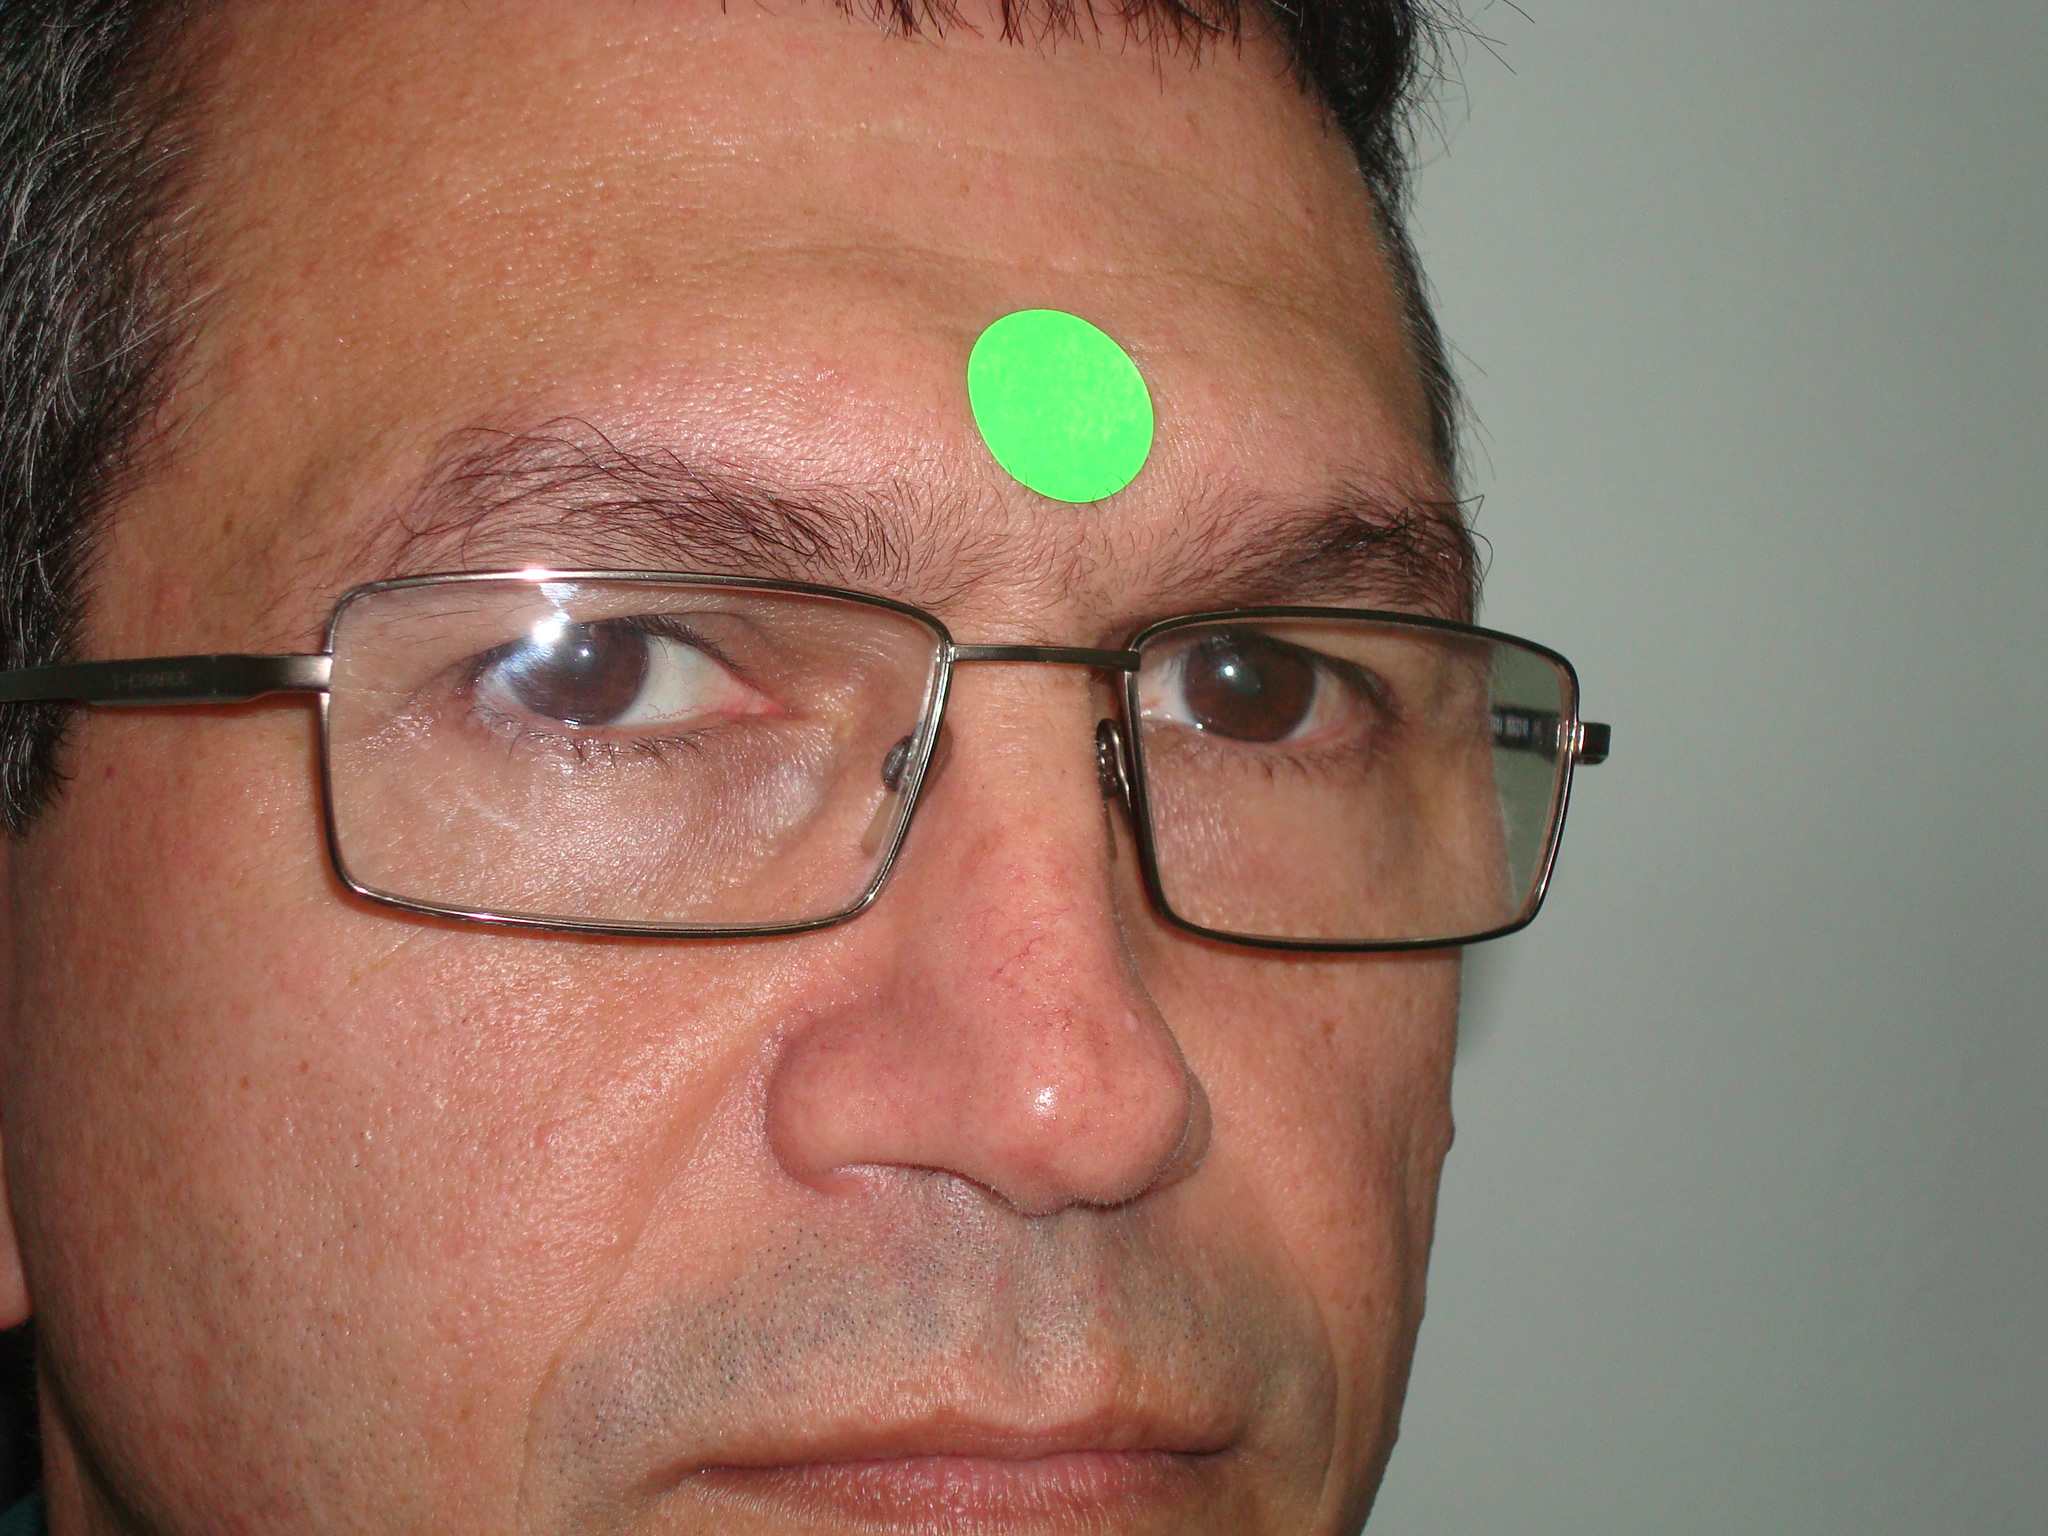flash: (1218, 658, 1240, 682), (576, 642, 595, 663)
limbo: (506, 602, 651, 715), (1180, 621, 1316, 739)
